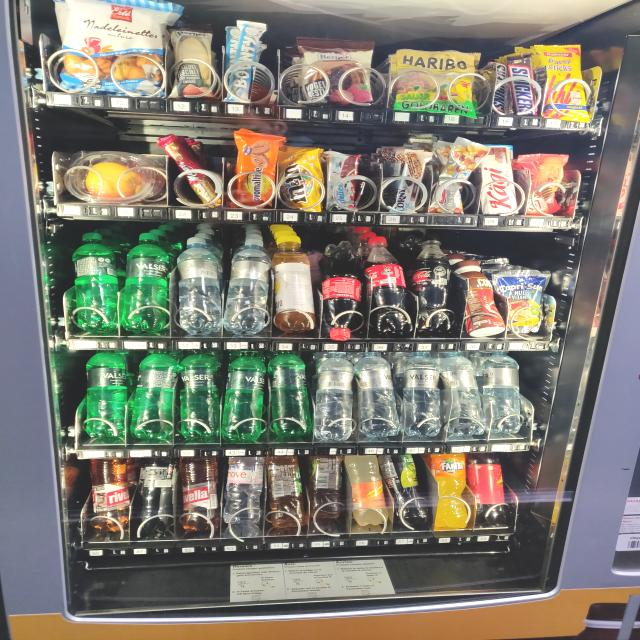berger_-____: (169, 25, 213, 97)
berger_vogelnestli____: (297, 39, 380, 103)
bounty_____: (226, 19, 270, 105)
branche_maxi____: (169, 134, 223, 206)
caprisun_multivitamin__20__4000177605004: (504, 270, 546, 337)
coke__flasche_50__54491472: (318, 243, 367, 340), (369, 232, 406, 335)
coke_zero_flasche_50__5449000131836: (412, 234, 453, 335), (139, 458, 176, 524)
comella_schokodrink_flasche_50__7613100037253: (462, 261, 500, 338)
corny_schoko____: (387, 150, 431, 213)
erle____: (56, 3, 172, 95)
evian___50__3068320353500: (222, 451, 268, 523)
fanta___50__40822938: (392, 453, 429, 529), (436, 451, 471, 529)
haribo_goldbaerensauer____: (392, 53, 477, 110)
kagi___50__7610046000259: (477, 146, 519, 217)
kinder_delice____: (325, 151, 362, 210)
lorenz_studentenfutter____: (428, 144, 480, 216)
malburner_partysticks__40__7610200279682: (542, 42, 594, 120)
mezzomix___50__54490840: (472, 451, 509, 526)
mnms_gelb__45__40111445: (283, 146, 323, 210)
momo_icetea__50__: (274, 233, 315, 334)
ovomaltine_kekse____: (232, 131, 284, 209)
rivella_rot__50__7610097111072: (86, 458, 130, 535), (177, 454, 217, 534)
schweppes_citrus__50__: (352, 452, 387, 530)
snickers___50__5000159461122: (508, 54, 537, 116)
valser_classic__50__76404160: (120, 232, 172, 332), (72, 231, 122, 334), (126, 353, 176, 439), (82, 351, 125, 442), (222, 356, 265, 442), (267, 358, 314, 436), (178, 354, 218, 442)
valser_still__50__7610335002575: (173, 236, 226, 336), (227, 236, 273, 333), (484, 352, 534, 431), (316, 356, 354, 442), (358, 354, 396, 439), (446, 352, 484, 435), (401, 352, 438, 436)
volvic_teeminze__50__3057640335648: (261, 454, 308, 528), (311, 451, 348, 522)
zweifel_saltedpeanuts____: (522, 152, 570, 214)
